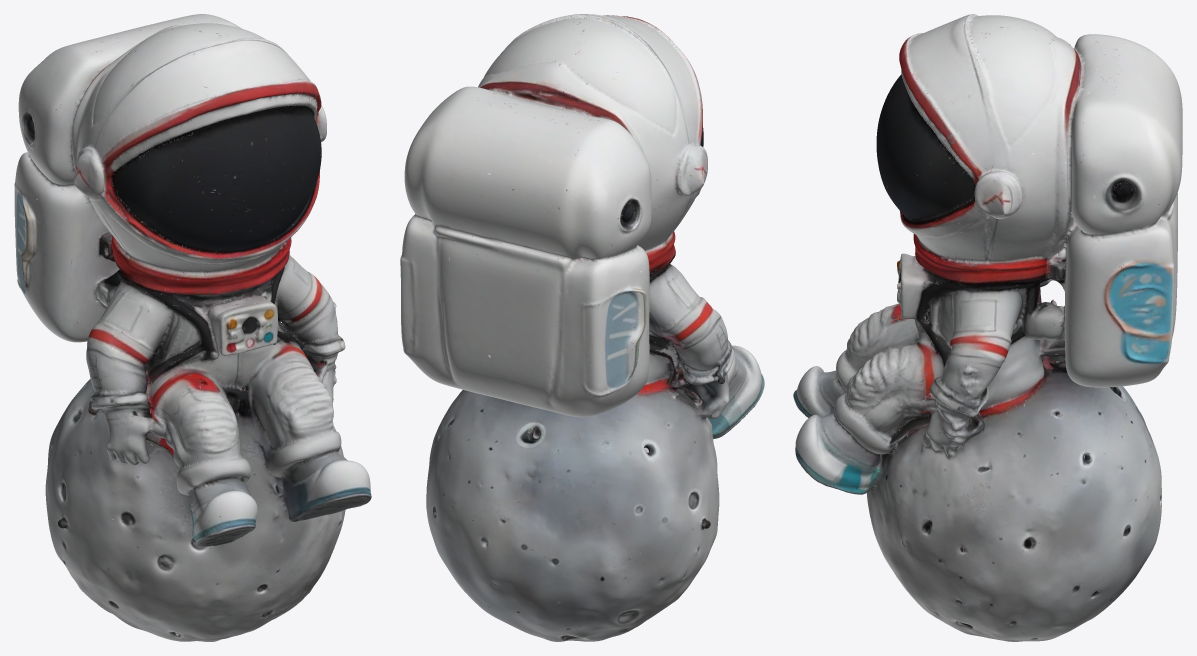
The model's file is Meshy_AI_Lunar_Daydream_0622123350_texture.compressed.glb.
3 renders of one model, left to right at view 1: azimuth 30°, elevation 25°; view 2: azimuth 150°, elevation 25°; view 3: azimuth 270°, elevation 25°, orthographic.
Size of the model in its own units: 0.9427 by 2 by 1.19.
1 material, 1 textured.
